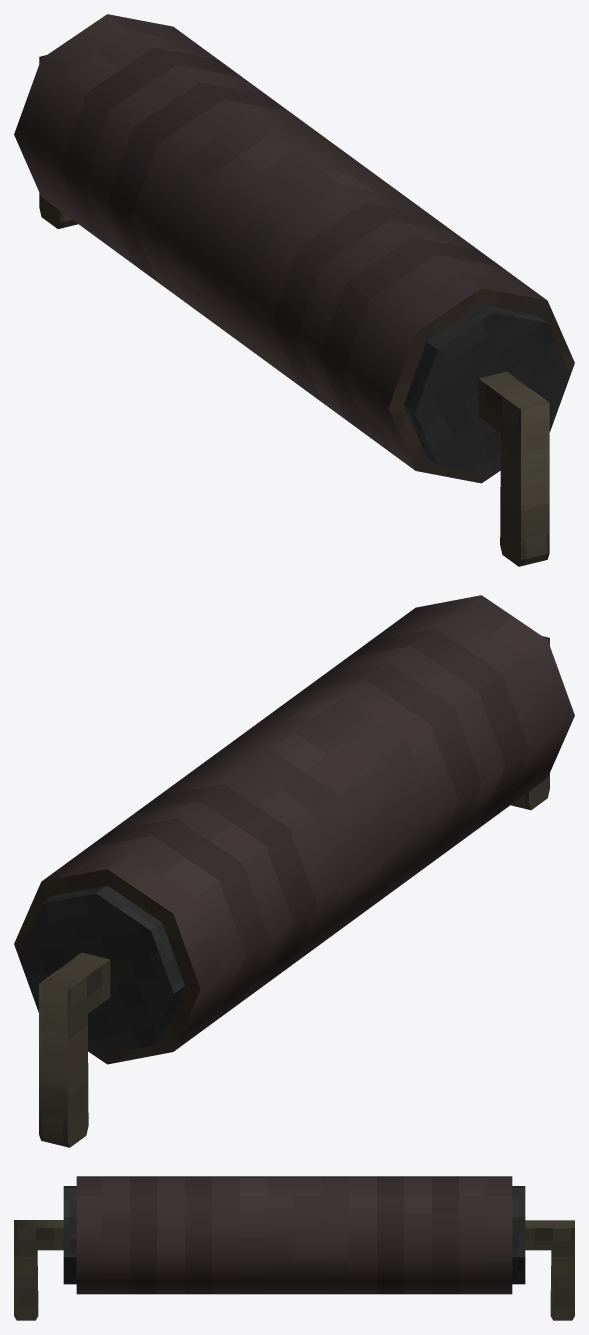
File: capacitor_etx_5_2.glb
3 views of the same model, one above another, from view 1: azimuth 30°, elevation 25°; view 2: azimuth 150°, elevation 25°; view 3: azimuth 270°, elevation 25° (orthographic). The views are drawn at different scales.
Parts seen in each view (by area): view 1: capacitor_etx_5_2; view 2: capacitor_etx_5_2; view 3: capacitor_etx_5_2.
Part boxes in pixels (left/top/right/bottom): capacitor_etx_5_2: left=14, top=14, right=574, bottom=566; capacitor_etx_5_2: left=14, top=595, right=574, bottom=1147; capacitor_etx_5_2: left=14, top=1176, right=574, bottom=1320.
Bounding box in the file's own units: 0.0432 × 0.0525 × 0.1932.
1 material, 1 textured.
